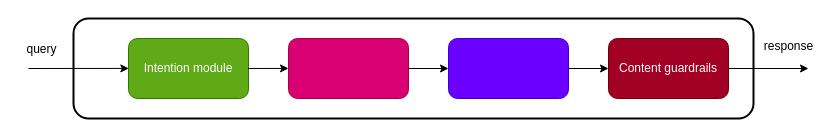
Some shapes in this 838 by 136 pixel diagram are drawn without their labels. Here are the shapes that lost their labels. From the top down, the centre of each, then its label:
At (348,68): "knowledge retrieval".
At (508,68): "LLM generation".
